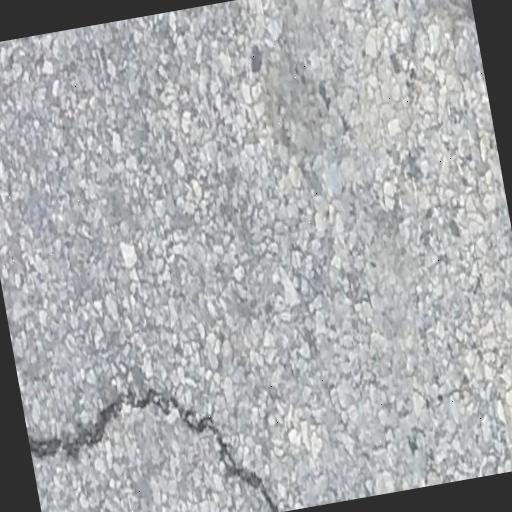spalling: (40, 376, 290, 506)
